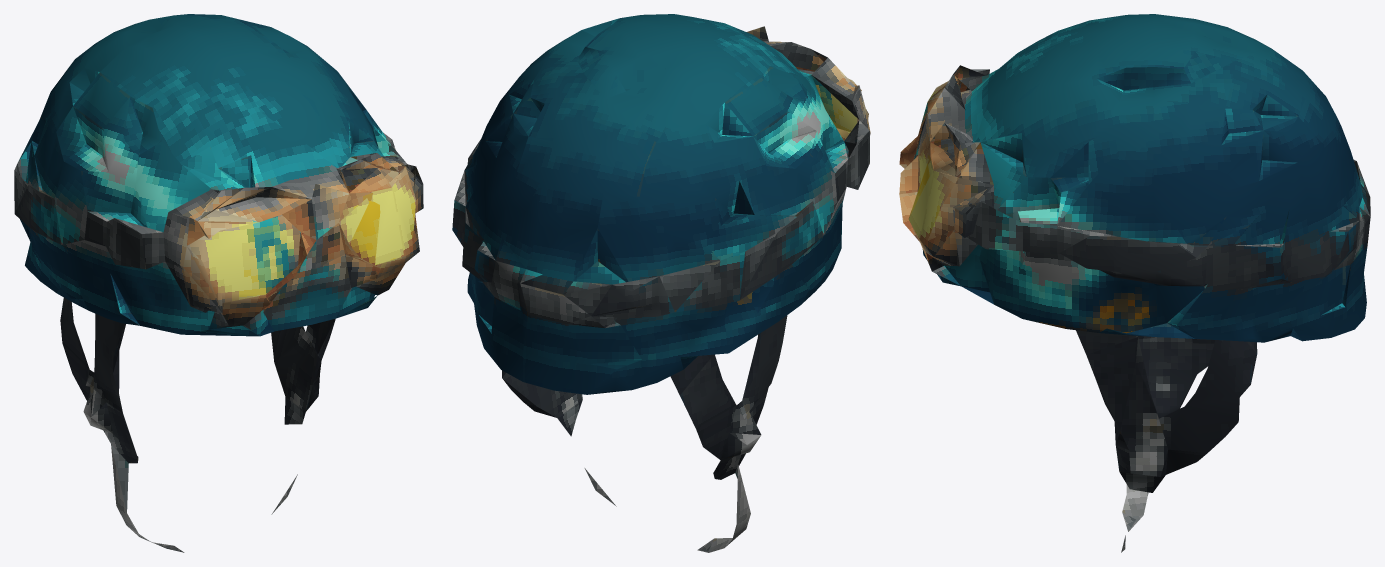
File: wear_moto2.glb
3 renders of one model, left to right at view 1: azimuth 30°, elevation 25°; view 2: azimuth 150°, elevation 25°; view 3: azimuth 270°, elevation 25°, orthographic. The views are drawn at different scales.
Visible parts, largest first — view 1: mesh; view 2: mesh; view 3: mesh.
Boxes of the visible parts, <box> form: mesh: <box>14,14,423,552</box>; mesh: <box>452,14,870,552</box>; mesh: <box>899,14,1370,552</box>.
Size of the model in its own units: 0.1789 by 0.27 by 0.2237.
Materials: 1 (1 with a texture image).
